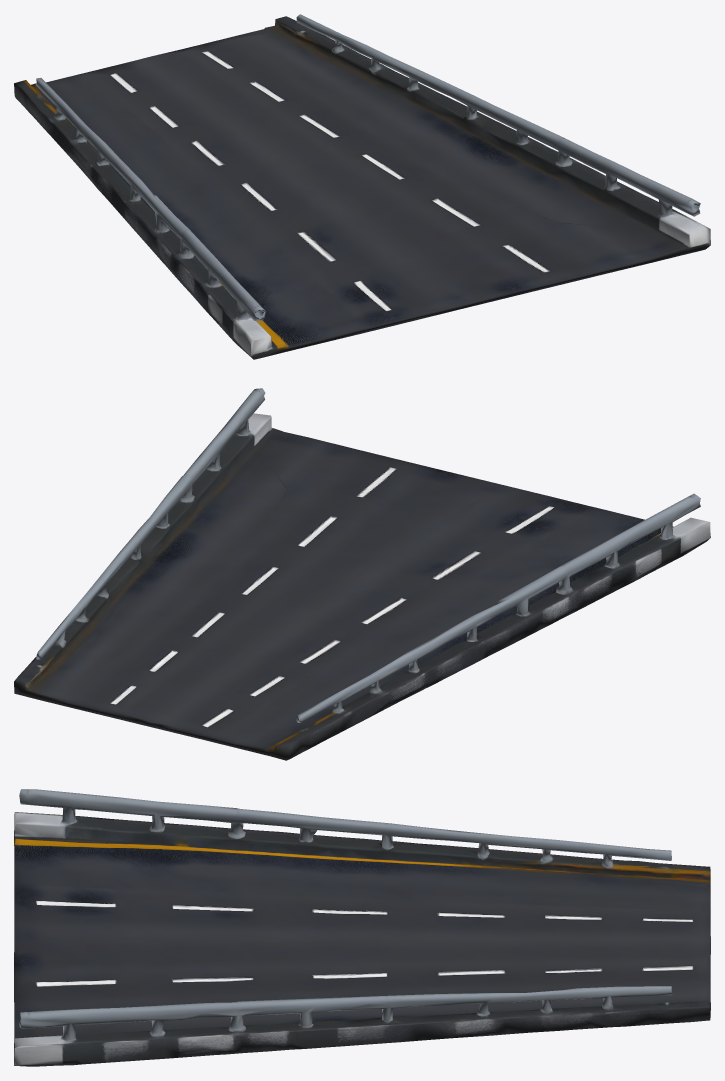
The model's file is road3lane.glb.
The picture shows the model from 3 angles, top to bottom: view 1: azimuth 30°, elevation 25°; view 2: azimuth 150°, elevation 25°; view 3: azimuth 270°, elevation 25°; orthographic projection. The views are drawn at different scales.
Parts seen in each view (by area): view 1: tripo_node_40d511cc-c81d-4751-9ca8-784bb01096e9; view 2: tripo_node_40d511cc-c81d-4751-9ca8-784bb01096e9; view 3: tripo_node_40d511cc-c81d-4751-9ca8-784bb01096e9.
Part boxes in pixels (bbox=[...]): tripo_node_40d511cc-c81d-4751-9ca8-784bb01096e9: bbox=[14, 14, 710, 359]; tripo_node_40d511cc-c81d-4751-9ca8-784bb01096e9: bbox=[14, 388, 710, 760]; tripo_node_40d511cc-c81d-4751-9ca8-784bb01096e9: bbox=[14, 789, 710, 1066].
Size of the model in its own units: 0.8033 by 0.0789 by 1.
1 material, 1 textured.
